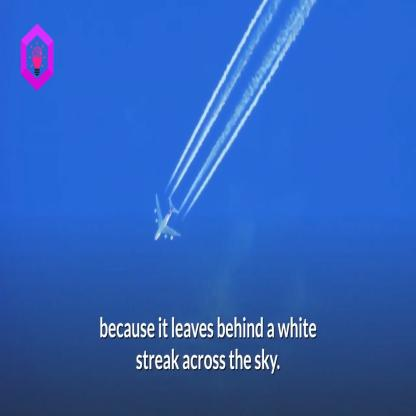plane: (146, 191, 183, 246)
